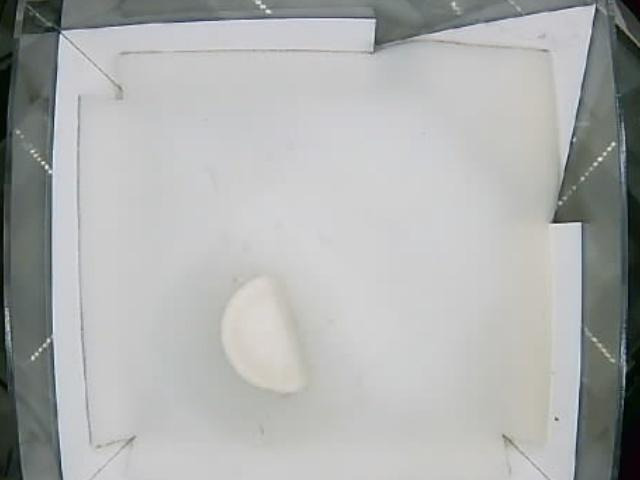Mooli: (218, 272, 310, 393)
